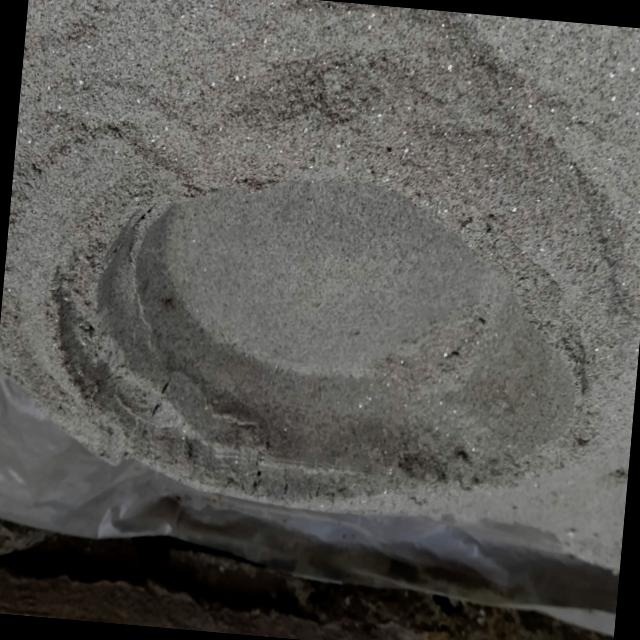C20: (100, 178, 574, 476)
